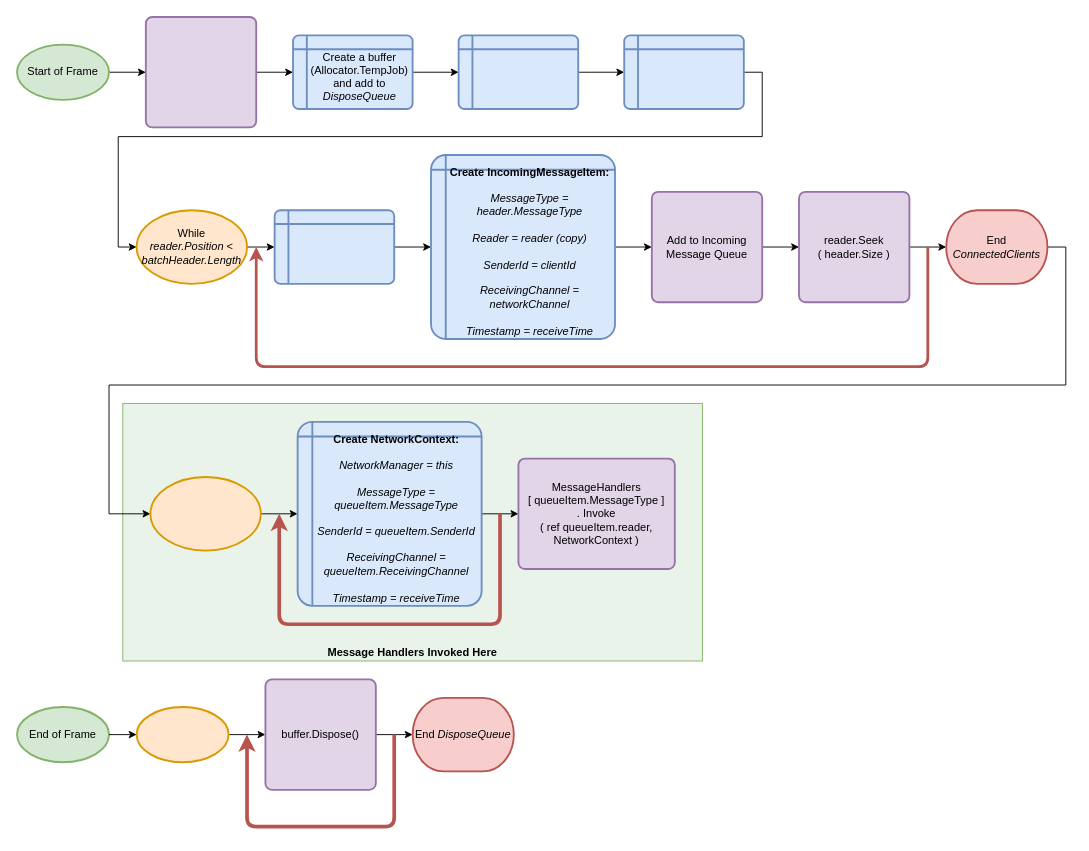
This 1089x851 diagram has some shape labels left out. The shapes that lost their labels are listed below. From the top down, each one's centre as x and y in pixels, then its label:
point (200, 72): HandleIncomingData
point (518, 71): Create FastBufferReader with buffer
point (683, 71): Read BatchHeader
point (334, 246): Read MessageHeader
point (205, 513): Foreach queuItem in Incoming Message Queue [ Timing.Start ]
point (182, 734): Foreach buffer in DisposeQueue
